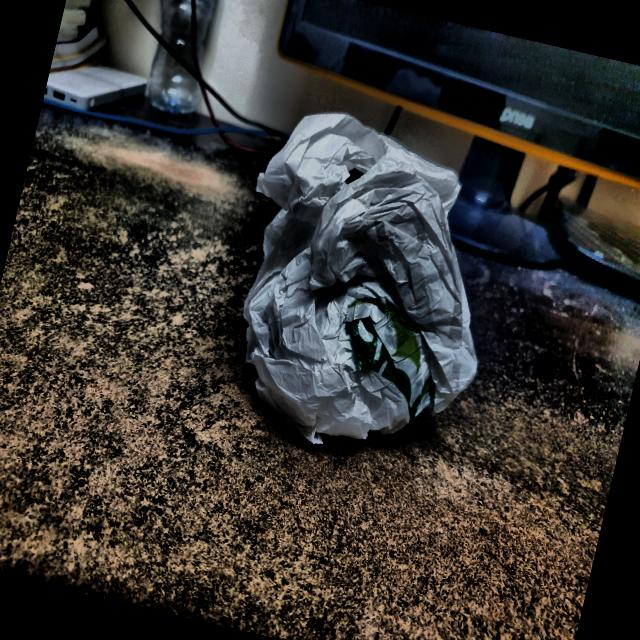plastic bag: (184, 86, 534, 500)
